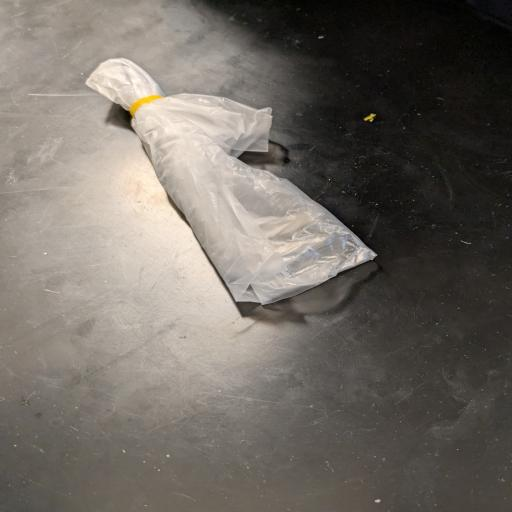rubberband: (82, 54, 383, 314)
